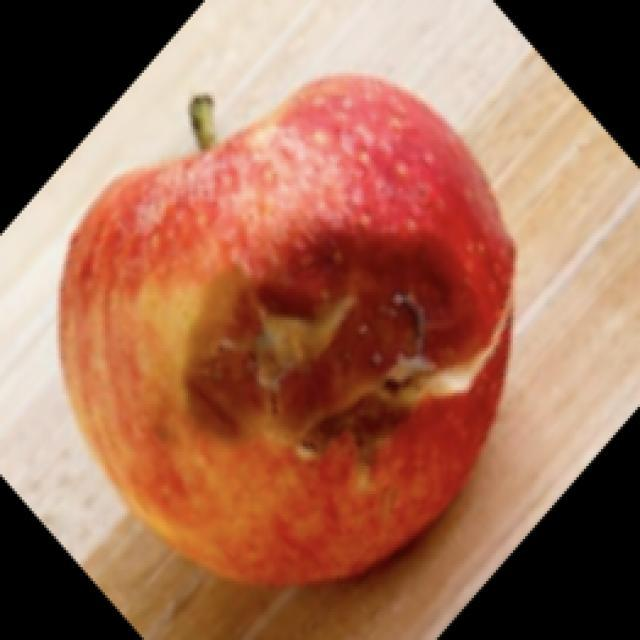Rotten: (98, 103, 525, 577)
